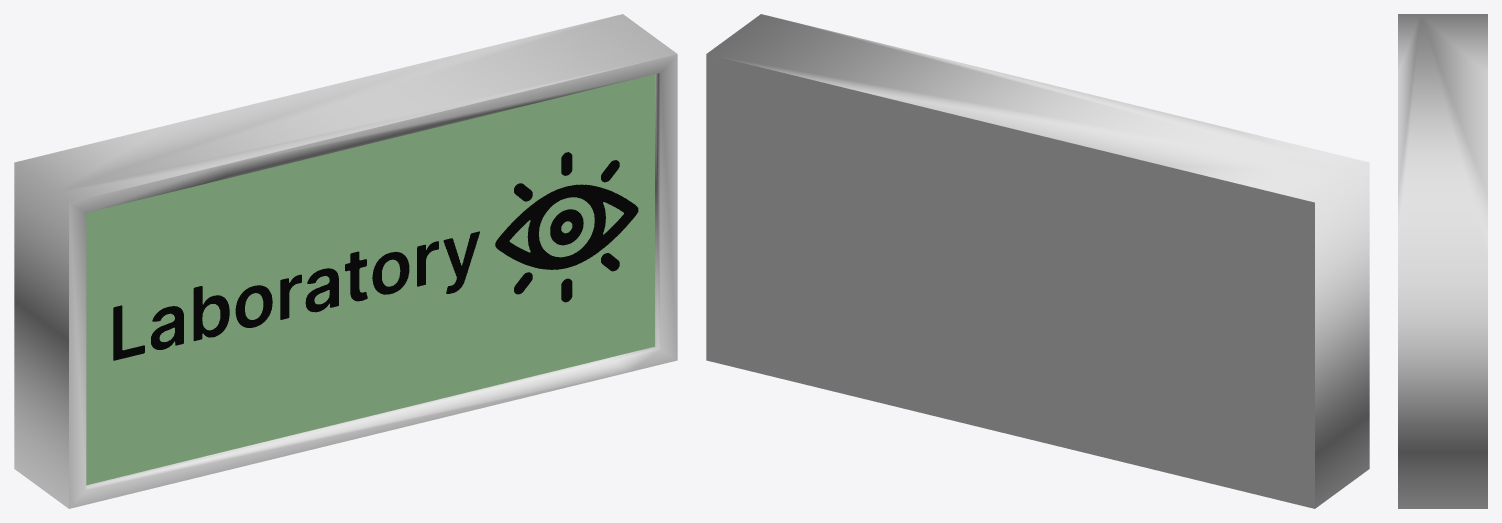
The model's file is VisionLab.fbx.
The picture shows the model from 3 angles, left to right: view 1: azimuth 30°, elevation 25°; view 2: azimuth 150°, elevation 25°; view 3: azimuth 270°, elevation 25°; orthographic projection. The views are drawn at different scales.
Parts seen in each view (by area): view 1: Exit, Group 1 (11); view 2: Exit; view 3: Exit.
Boxes of the visible parts, x1,y1,x2,y2 form: Exit: (14, 14, 677, 508); Group 1 (11): (113, 152, 638, 360); Exit: (706, 14, 1369, 508); Exit: (1398, 14, 1487, 508).
Size of the model in its own units: 1317 by 665 by 205.
